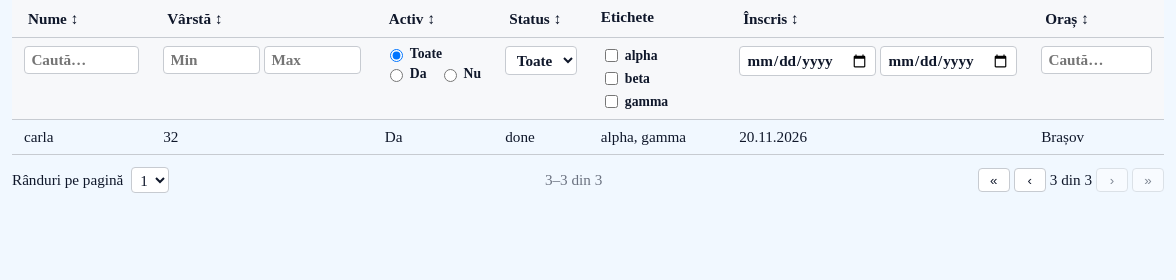
Test: DataTable pagination › changing page size resets pageIndex to 0
Expected: the cell "carla" is shown, [12,120,151,155]
Select "3" in the dropdown labelled "Rânduri pe pagină": (150, 180) [131,167,169,193]
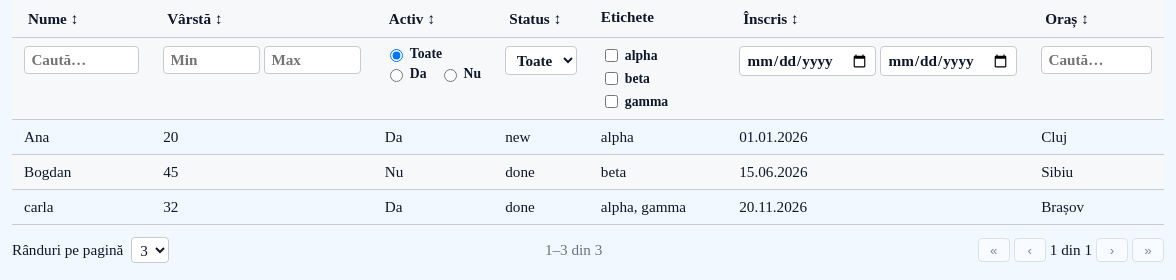
Expected: the cell "Ana" is shown, [12,120,151,155]
